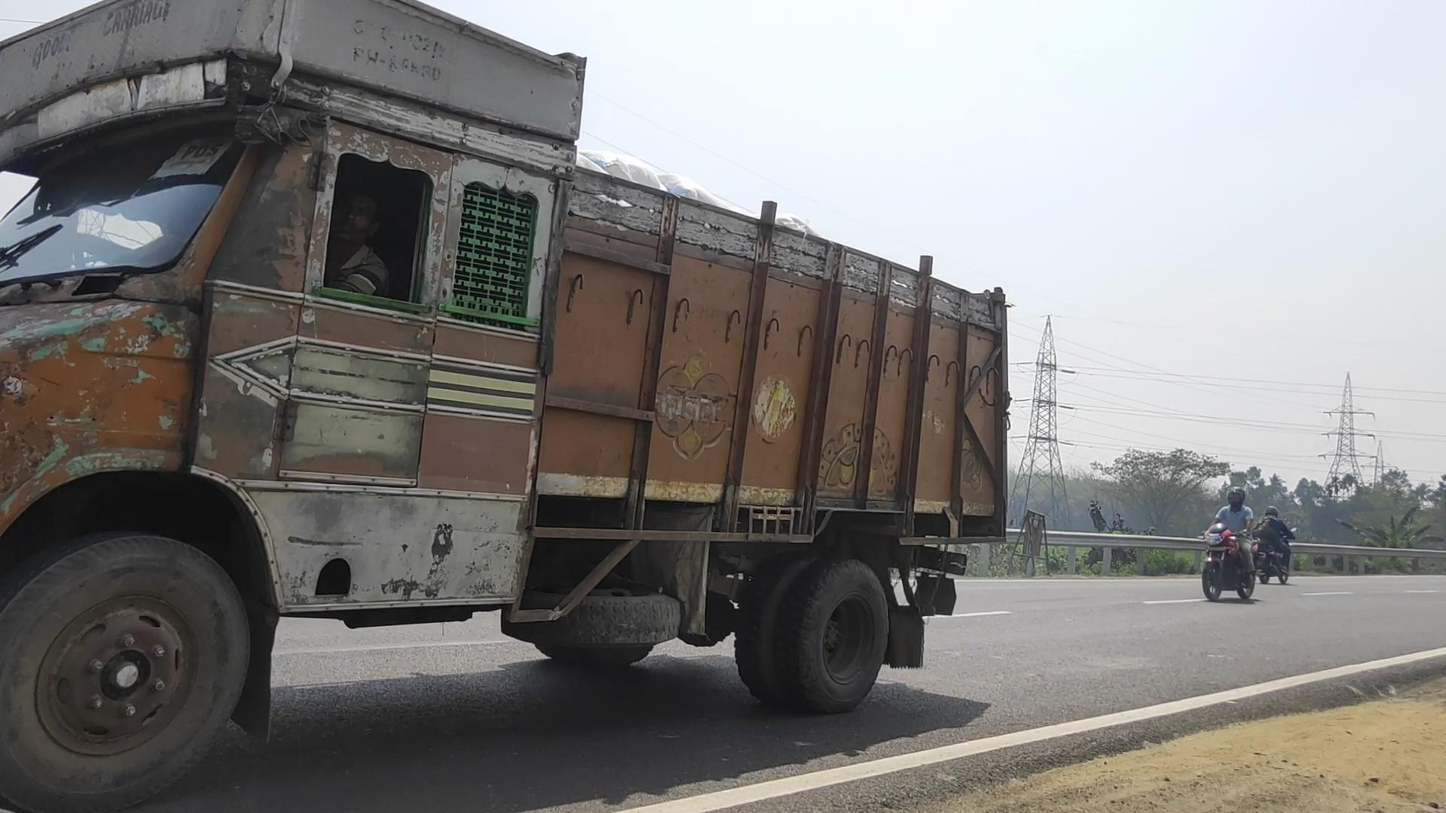bike: (1197, 487, 1261, 601), (1252, 504, 1297, 585)
truck: (1, 2, 1012, 813)
